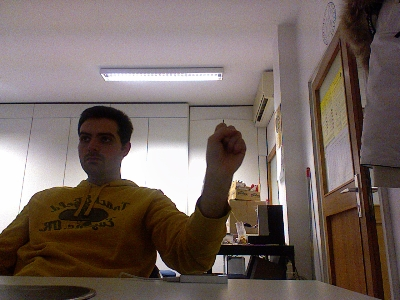石头: (204, 120, 247, 174)
